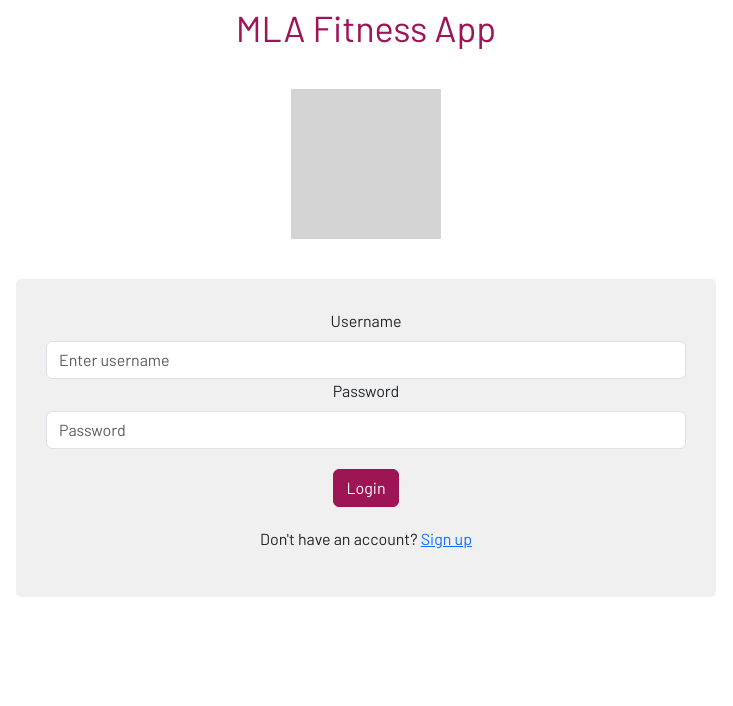
sign up › should sign in new user
Click the link "Sign up" at (446, 539), box left=421, top=529, right=472, bottom=548
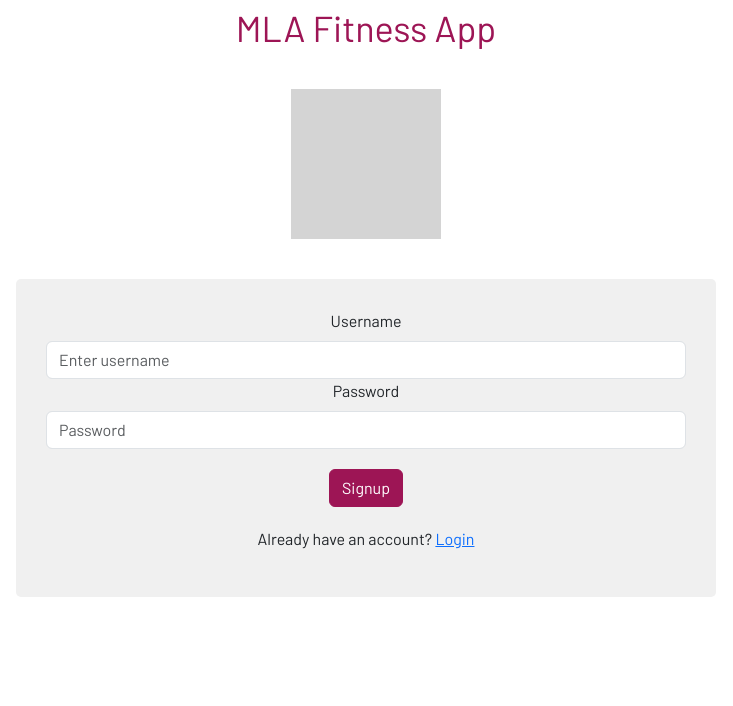
Expected: the text "Already have an account?" is shown, left=258, top=529, right=435, bottom=548
Type "new_cfg_student" into the field labelled "Username" at (366, 360), box left=46, top=341, right=686, bottom=379
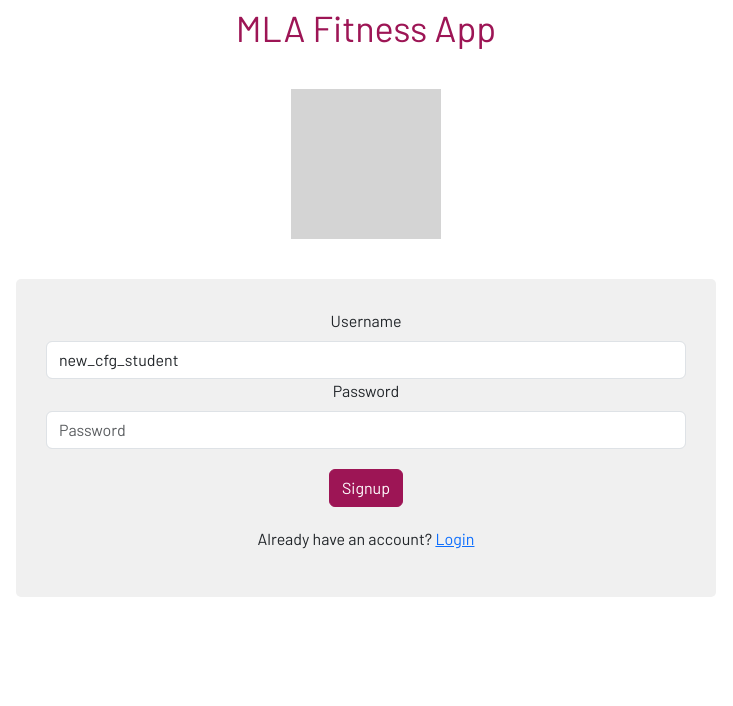
Type "12345678" into the password field labelled "Password" at (366, 430), box left=46, top=411, right=686, bottom=449
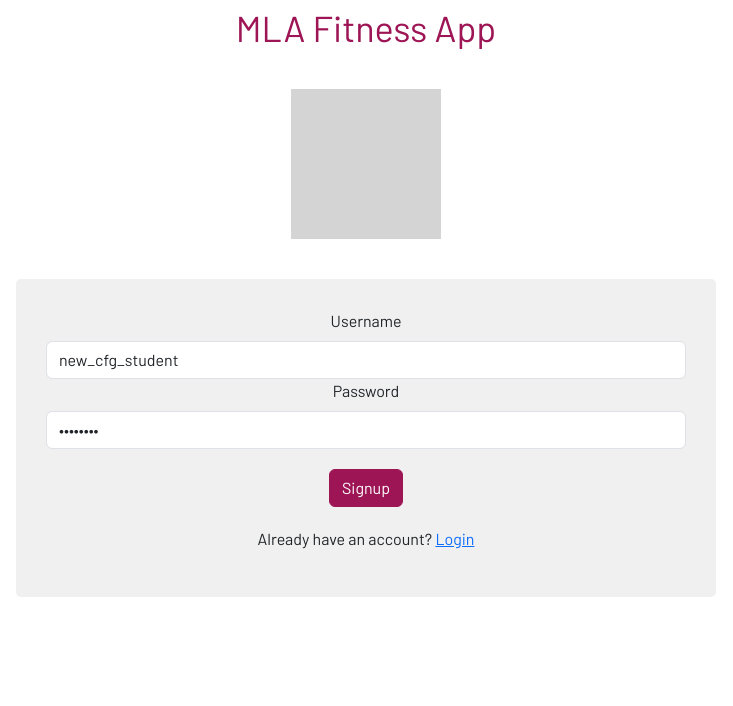
Click the button "Signup" at (366, 488), box left=329, top=469, right=403, bottom=507
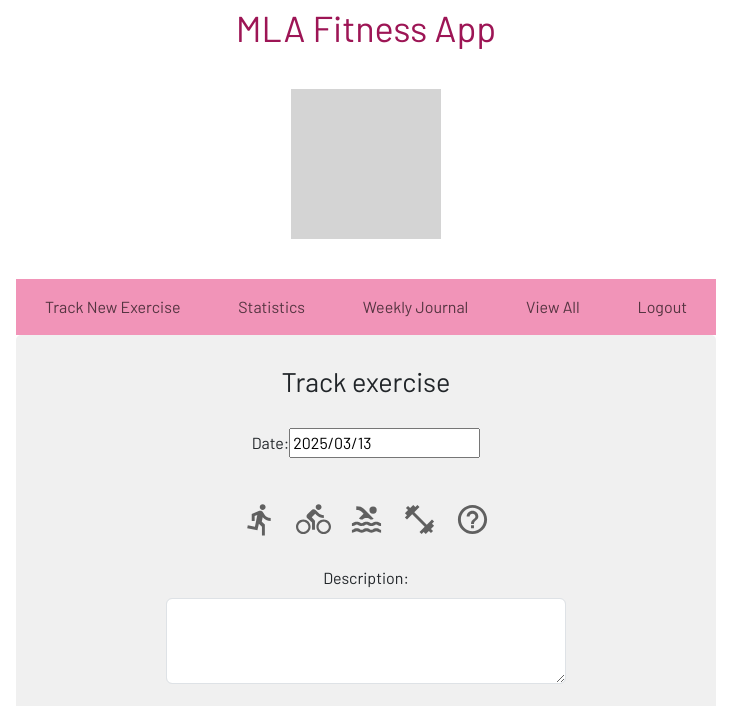
Expected: the heading "Track exercise" is shown, left=282, top=365, right=450, bottom=397
